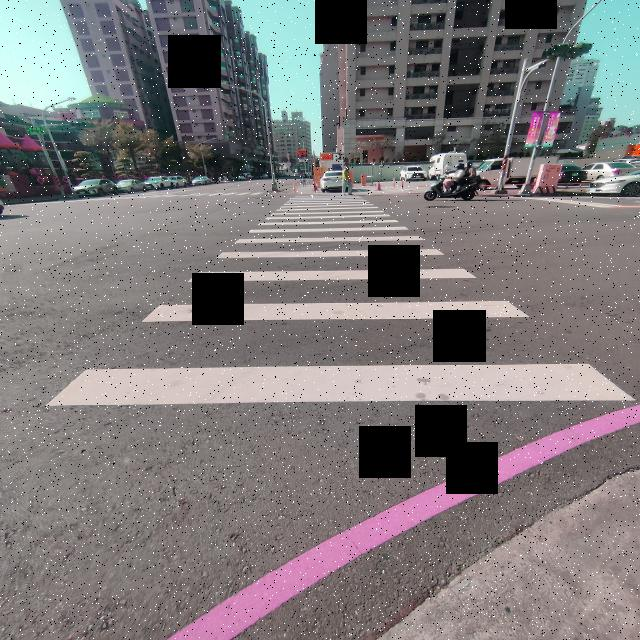zebra crossing: (45, 193, 637, 404), (70, 193, 264, 202)
